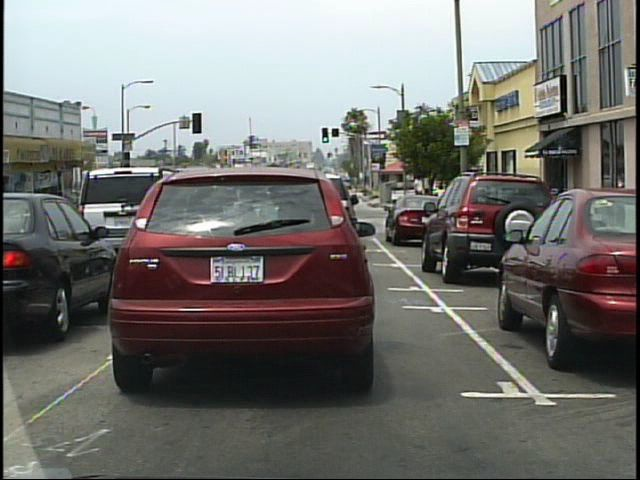person: (411, 188, 423, 221), (415, 189, 424, 220)
